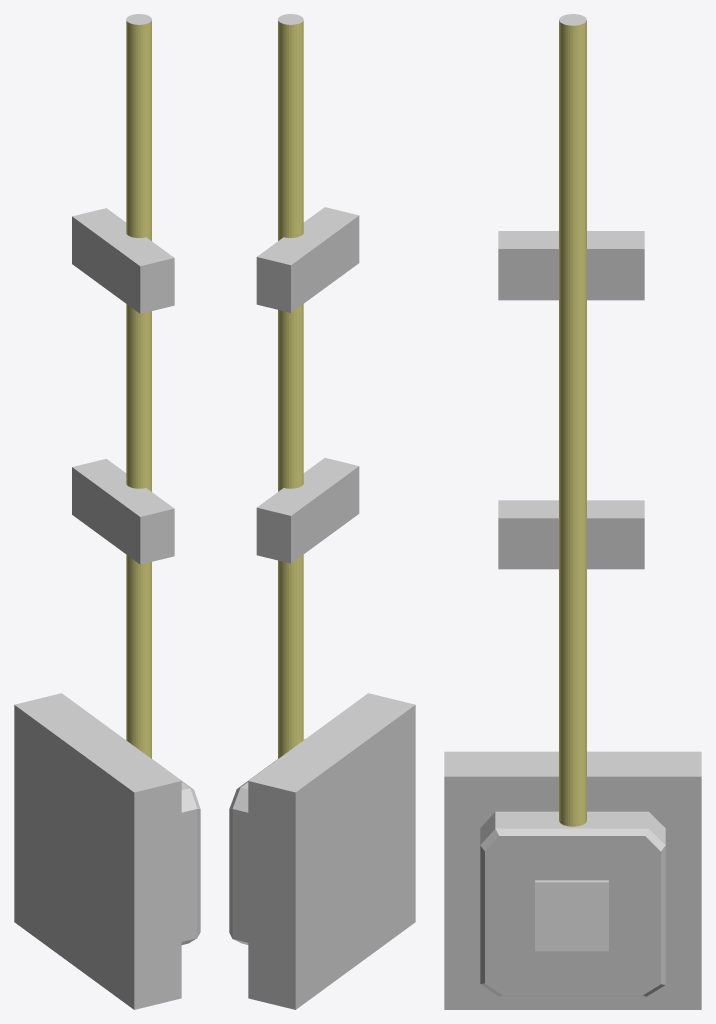
The model's file is lightSwitch.fbx.
3 views of the same model, side by side, from view 1: azimuth 30°, elevation 25°; view 2: azimuth 150°, elevation 25°; view 3: azimuth 270°, elevation 25° (orthographic). The views are drawn at different scales.
Parts seen in each view (by area): view 1: Cube; view 2: Cube; view 3: Cube.
Part boxes in pixels (left/top/right/bottom): Cube: left=14, top=14, right=200, bottom=1009; Cube: left=229, top=14, right=415, bottom=1009; Cube: left=444, top=14, right=701, bottom=1009.
Size of the model in its own units: 245 by 2234 by 522.
